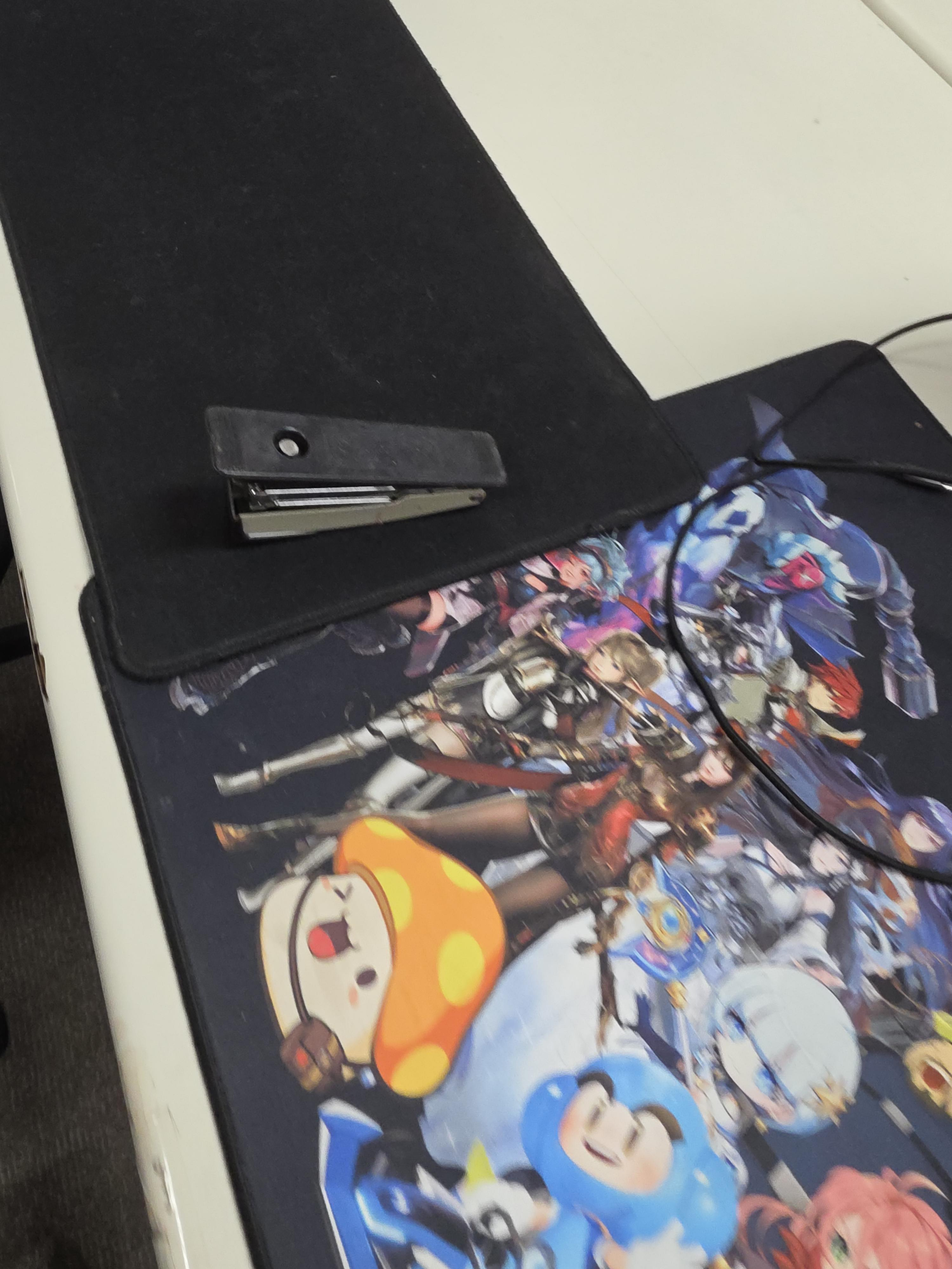stapler: (205, 405, 508, 541)
